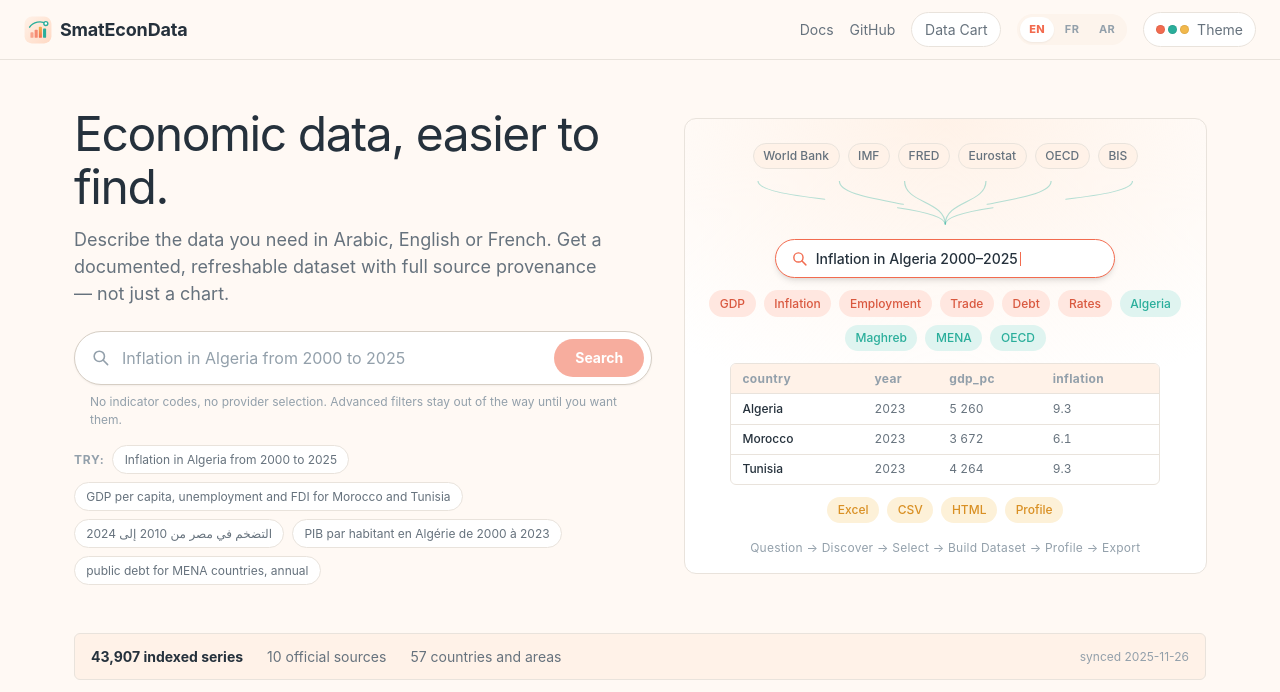
HomePage — zero-friction search › Arabic queries follow the same zero-friction path
Type "التضخم في الجزائر من 2000 إلى 2025" into the search field. click: (332, 358)
box: [122,338,542,378]
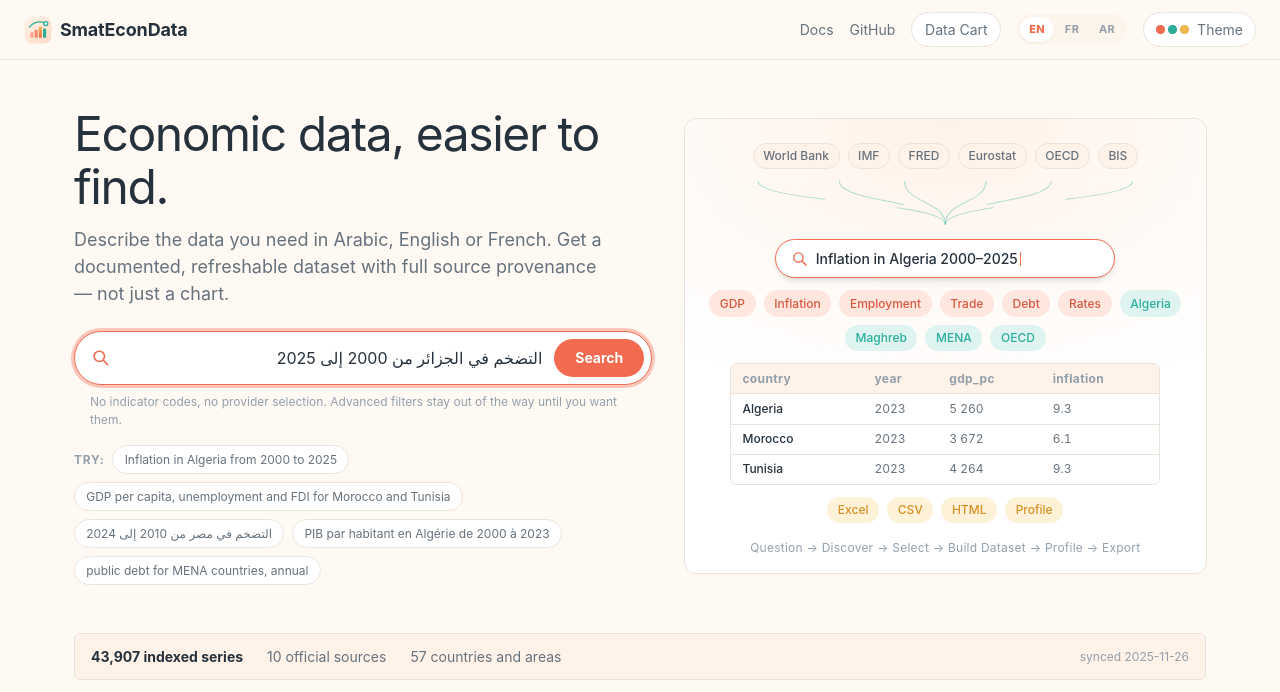
Click the button "Search". click: (599, 358)
box: [554,339,644,377]
(page scrolled)
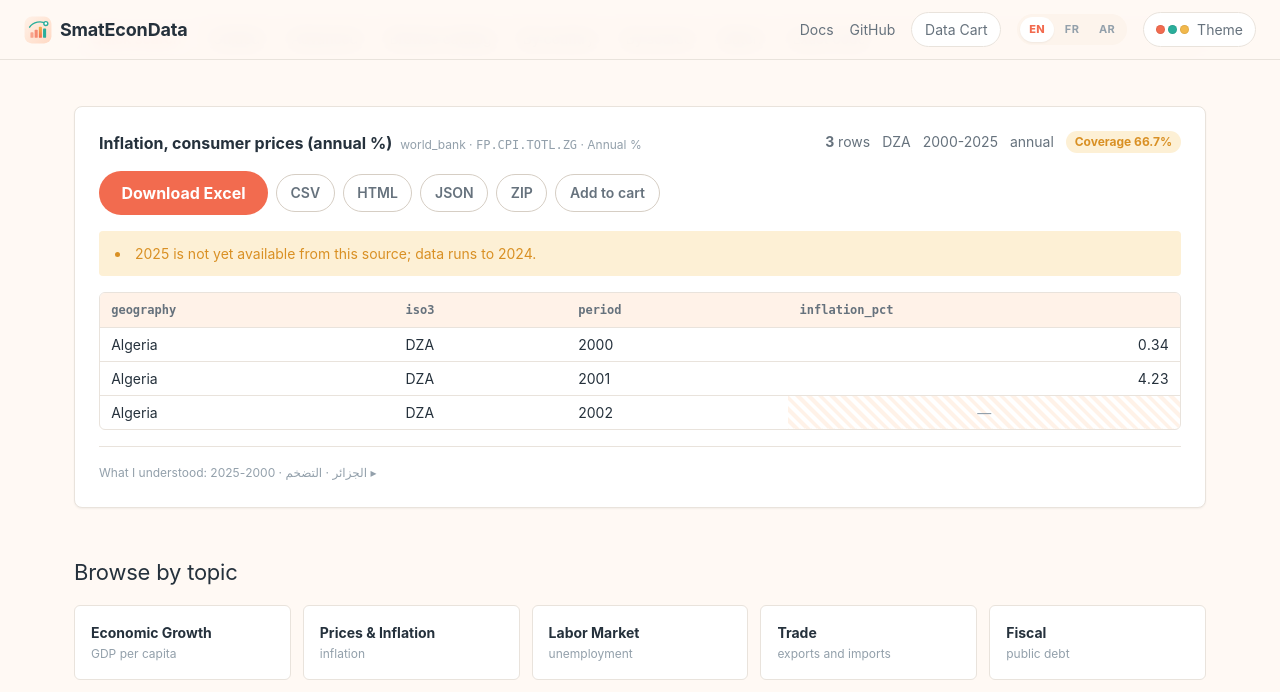
Check: the table is shown, box [100,292,1180,429]
